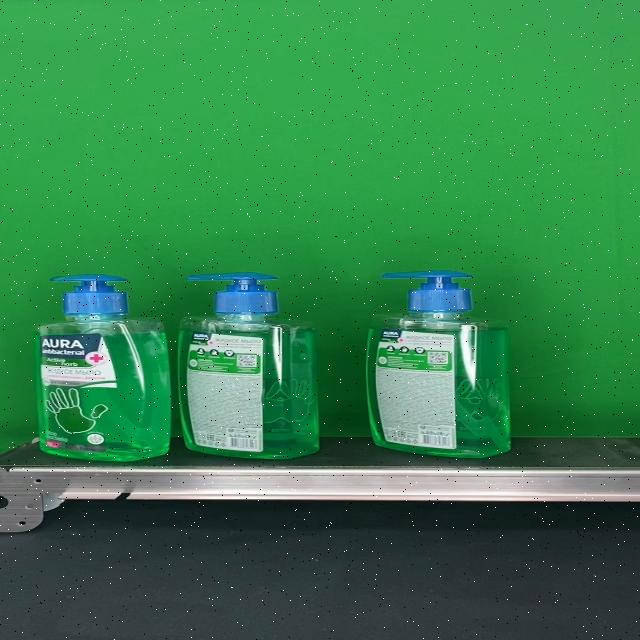Bottle: (367, 269, 511, 458), (178, 271, 320, 459), (36, 274, 172, 462)
Cap: (185, 271, 277, 314), (382, 270, 473, 312), (47, 273, 127, 314)
